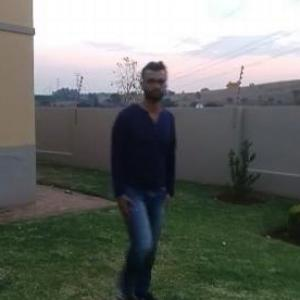follow: (80, 55, 178, 299)
